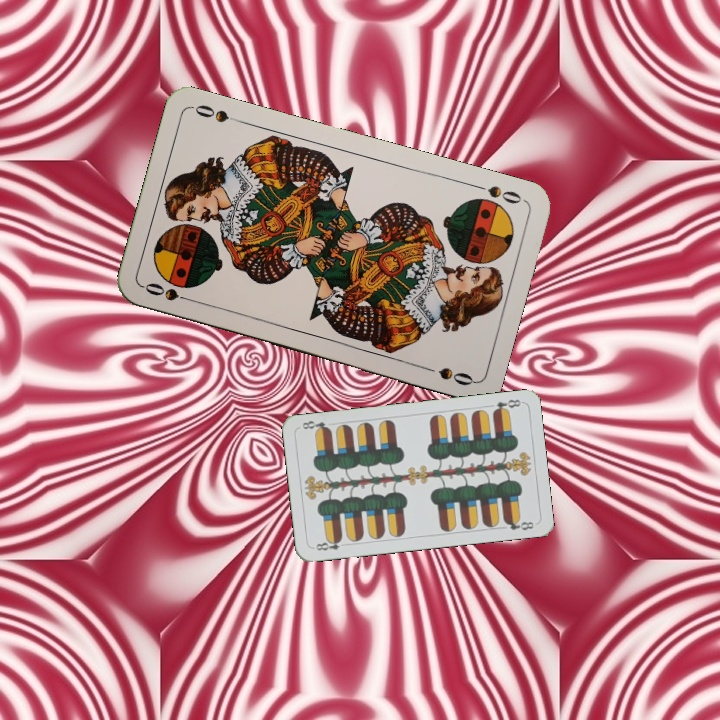E8: (310, 534, 350, 553), (488, 395, 523, 416)
SO: (140, 278, 198, 305), (469, 180, 524, 207)
